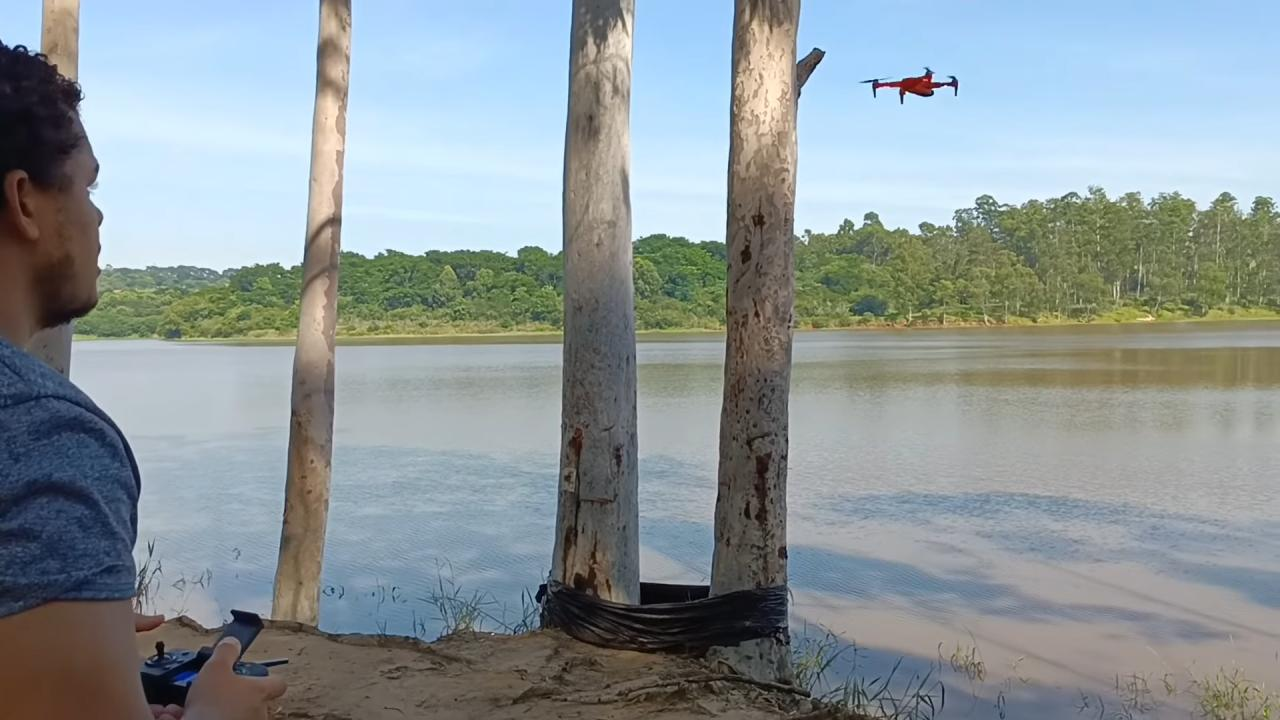Drone: (850, 55, 975, 112)
